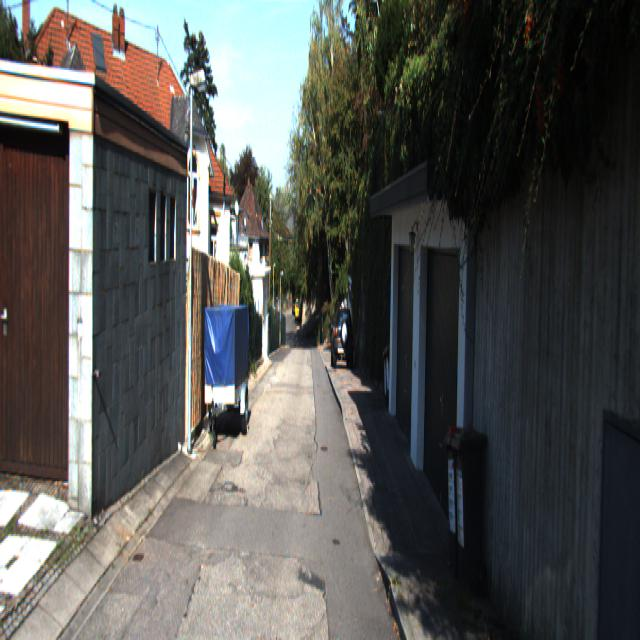Car: (203, 300, 250, 446), (331, 306, 355, 370)
